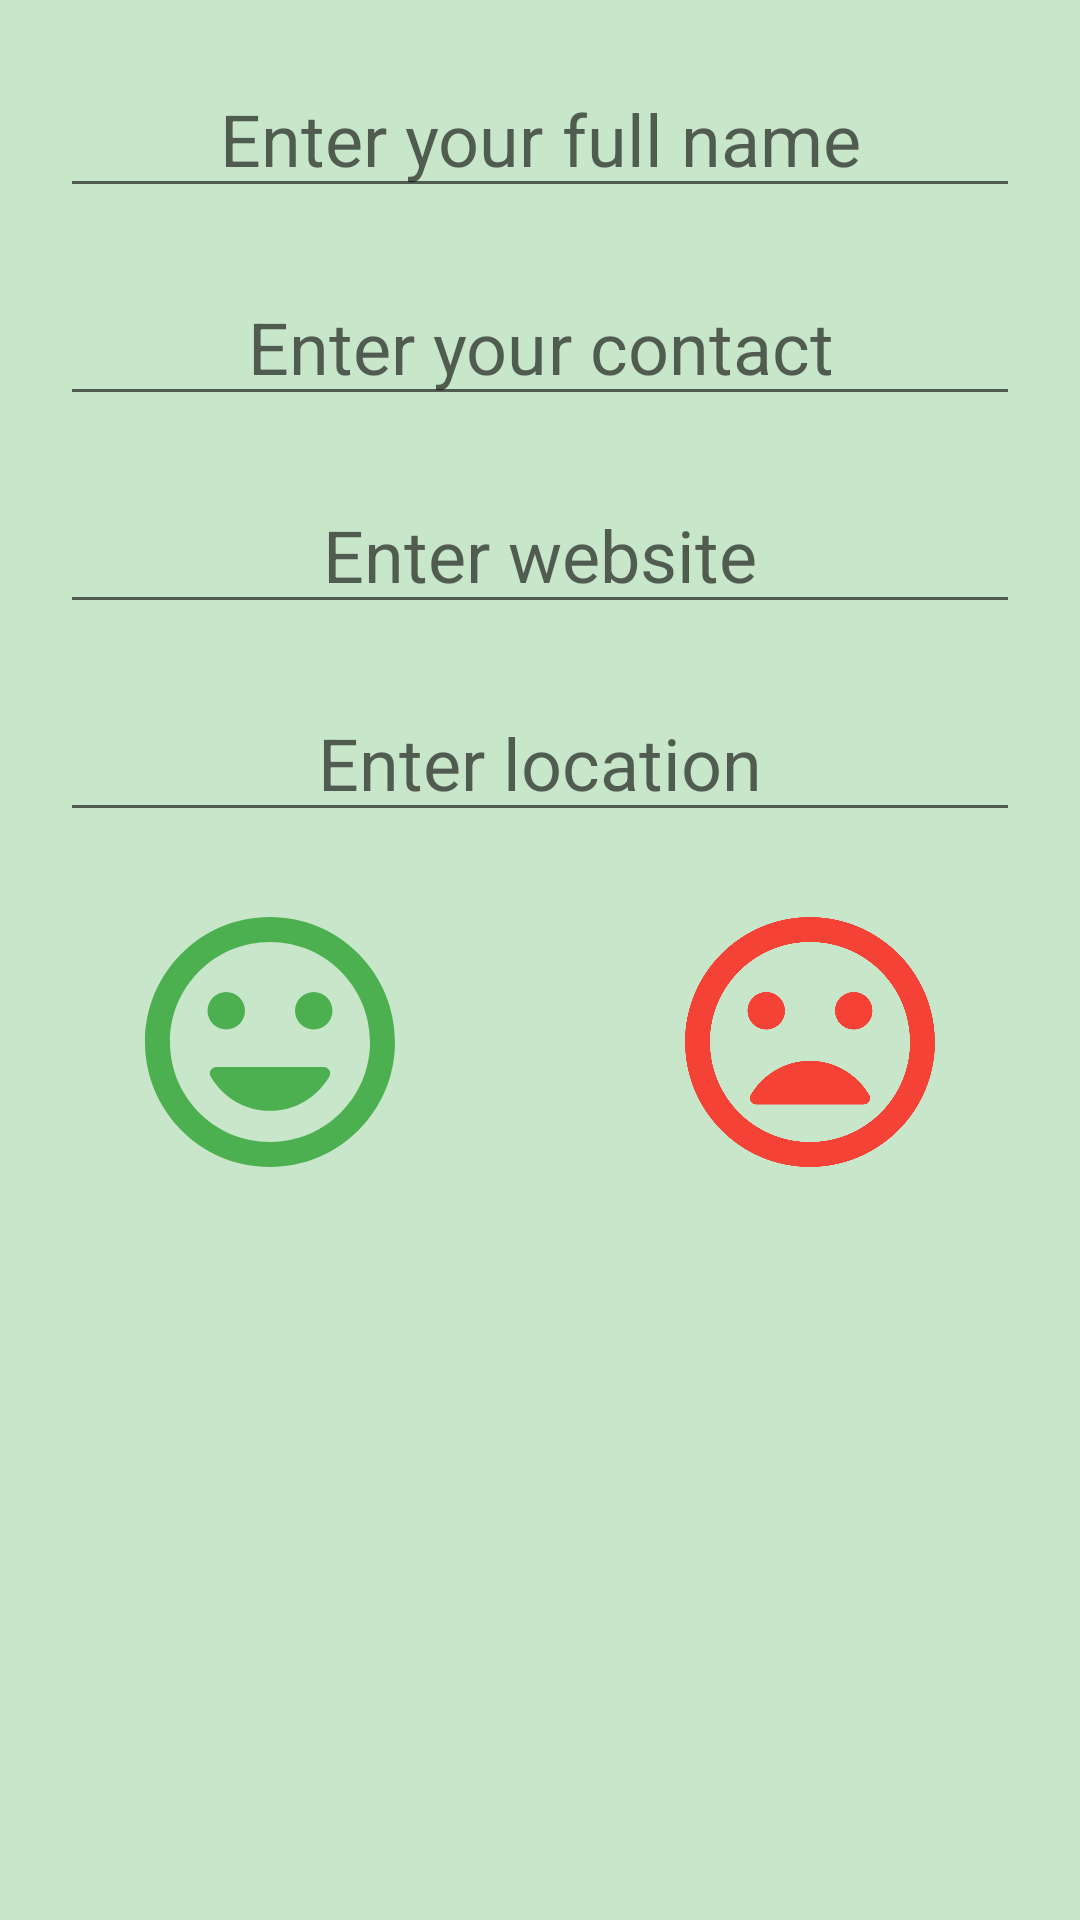

Icon click points for this 1080 × 1920 phone screenshot, format point (x, y):
happy: point (270, 1042)
sad: point (810, 1042)
